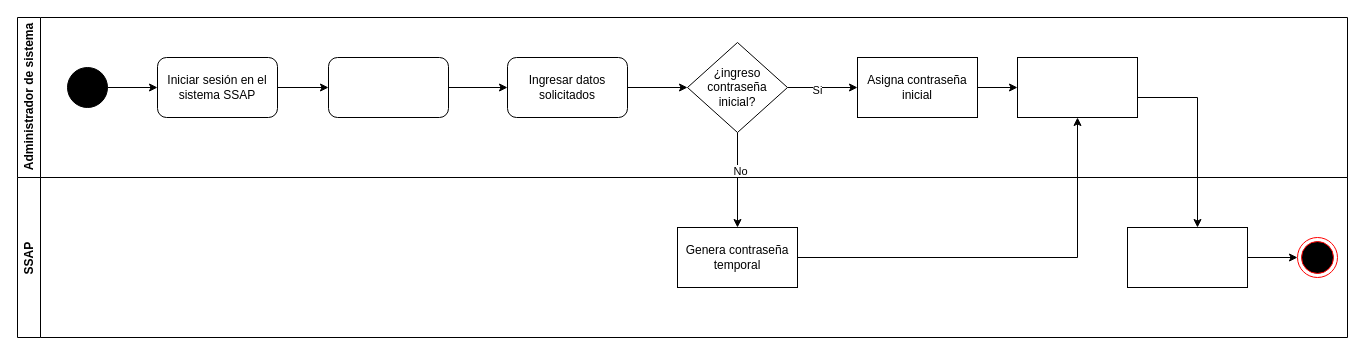
Image size: 1365x355. Some labels were removed from this diagram. The centre of each missing label's shape, as x and y in pixels:
Notificar al usuario: pixel 1187 257
Revisar y confirmar usuario: pixel 1077 87
Seleccionar la opcion "Crear nuevo usuario": pixel 388 87
